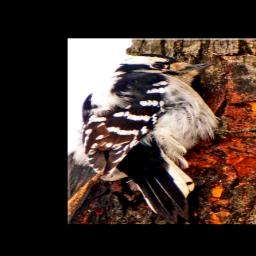Woodpecker: (72, 50, 256, 225)
